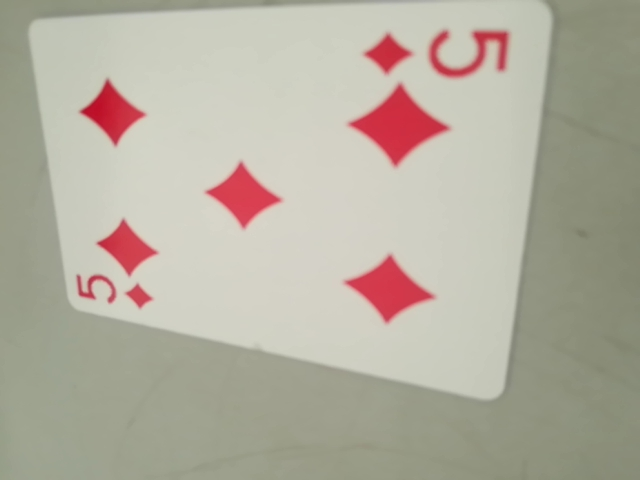fk 5: (358, 19, 514, 84), (70, 267, 154, 316)
